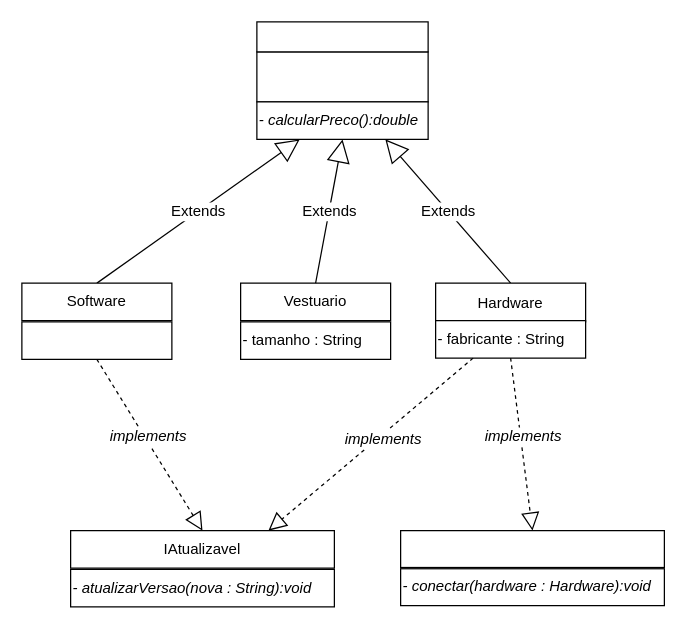
Some shapes in this 686 by 629 pixel diagram are drawn without their labels. The box of each missing label's shape, as (x1, y1, x2, y2) in pixels:
- nome : String - precoBase : double: (256, 51, 428, 102)
- versao : String: (21, 321, 172, 359)
IConectavel: (399, 529, 664, 568)
Produto: (256, 21, 428, 52)
